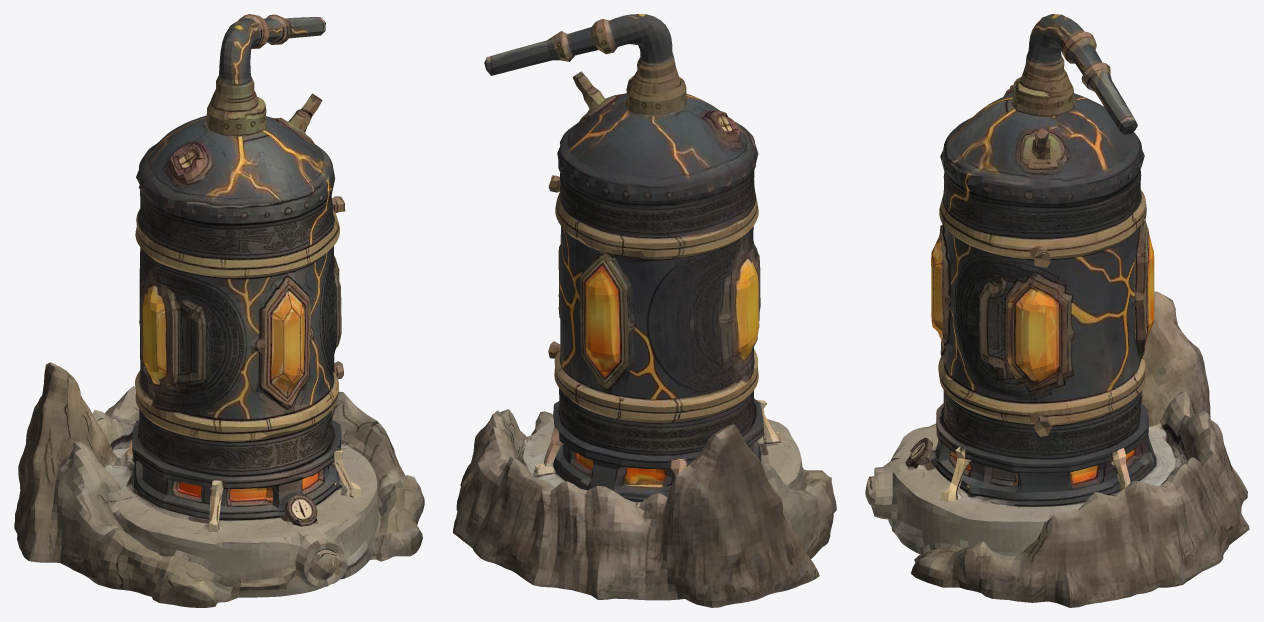
The model's file is alchemy_reactor.glb.
3 views of the same model, side by side, from view 1: azimuth 30°, elevation 25°; view 2: azimuth 150°, elevation 25°; view 3: azimuth 270°, elevation 25° (orthographic).
Bounding box in the file's own units: 1.45 × 1.91 × 1.31.
Materials: 1 (1 with a texture image).
